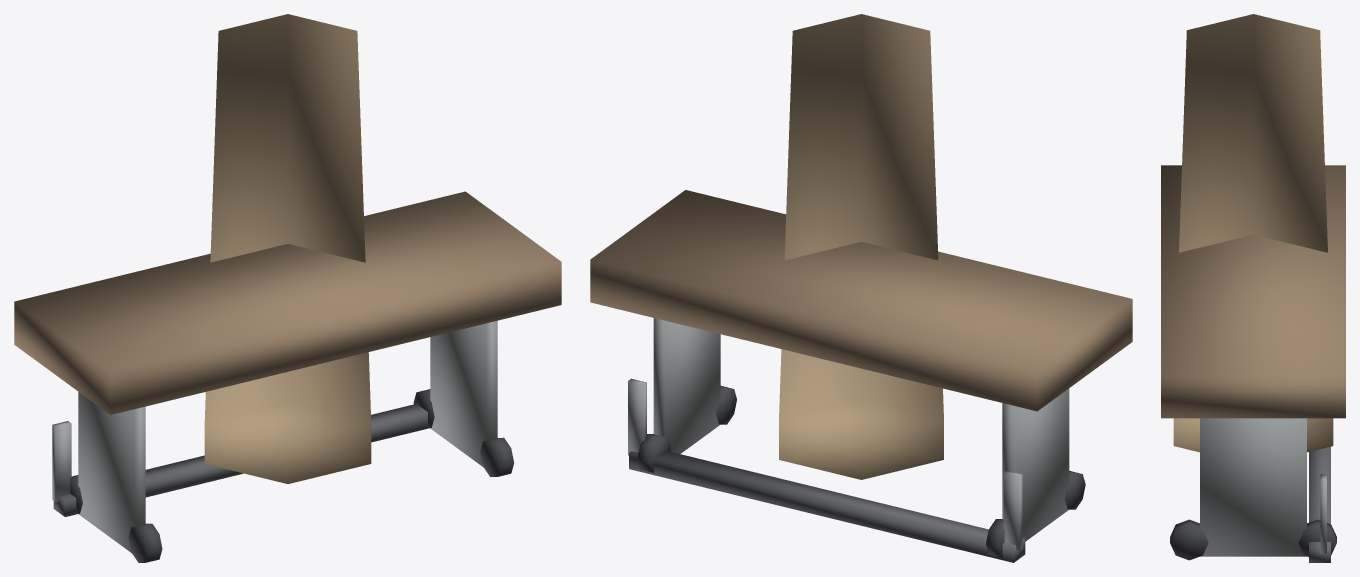
Rendered from casket_bier__reinforced.glb.
The picture shows the model from 3 angles, left to right: view 1: azimuth 30°, elevation 25°; view 2: azimuth 150°, elevation 25°; view 3: azimuth 270°, elevation 25°; orthographic projection. The views are drawn at different scales.
Visible parts, largest first — view 1: world; view 2: world; view 3: world.
Part boxes in pixels (x1=…): world: x1=14, y1=14, x2=561, y2=562; world: x1=590, y1=14, x2=1132, y2=562; world: x1=1161, y1=14, x2=1345, y2=562.
Bounding box in the file's own units: 2.01 × 1.9 × 0.7416.
